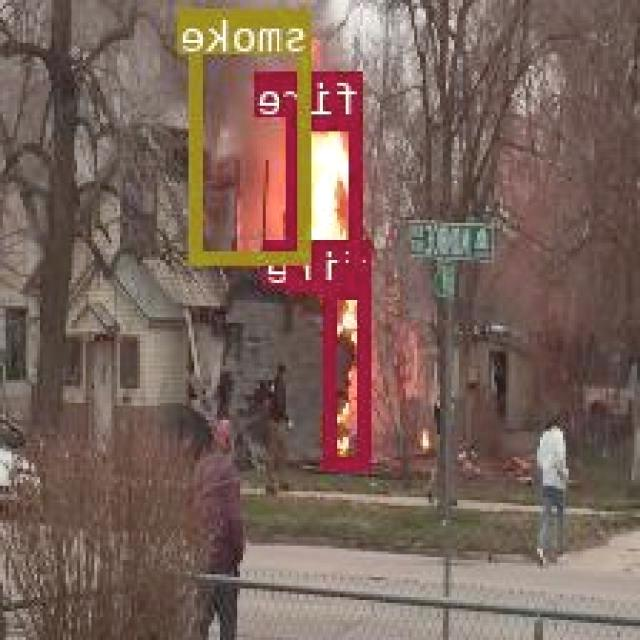fire: (291, 116, 365, 290), (328, 283, 372, 466)
smoke: (192, 8, 314, 262)
